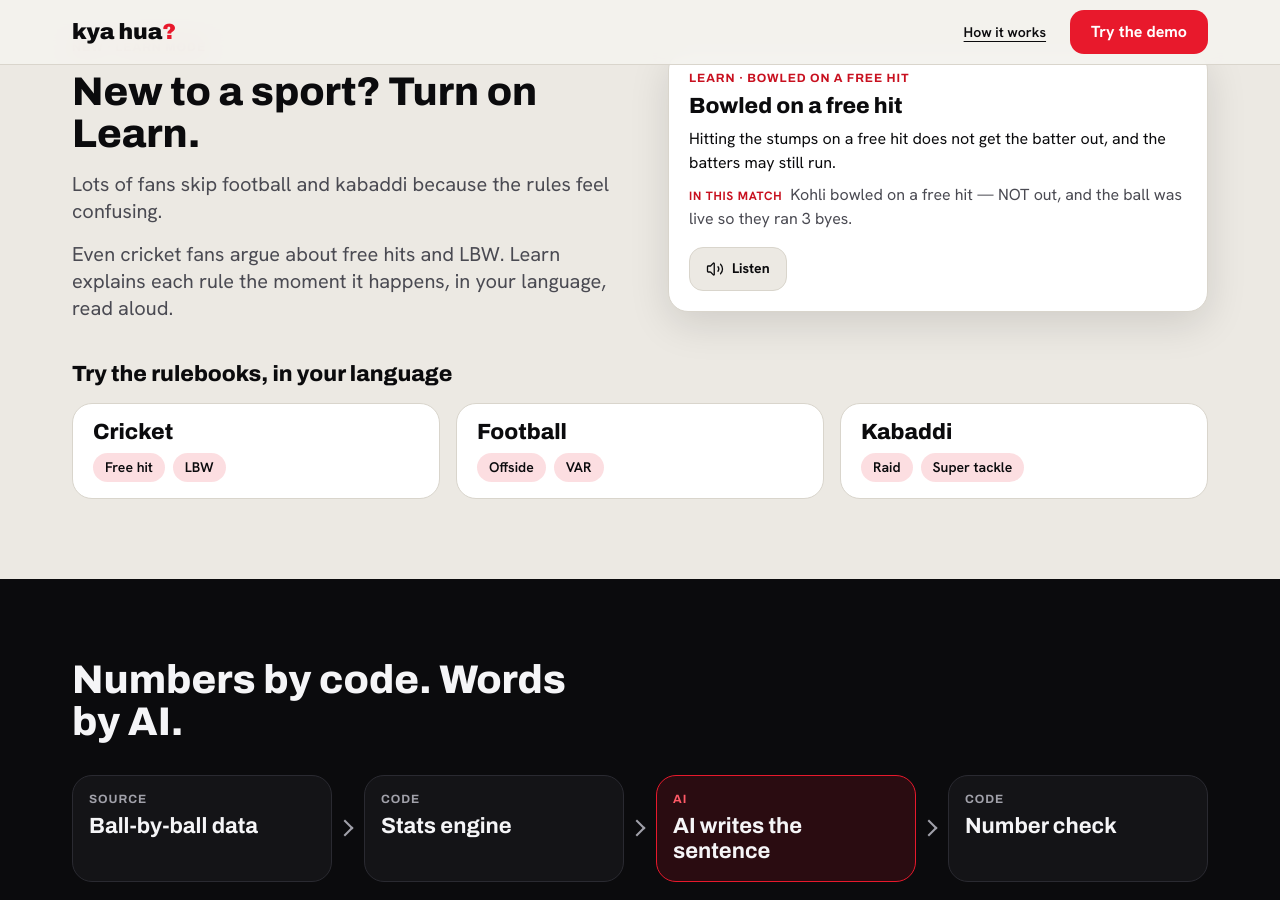
Test case: LandingPage › sport chips show two example rules each and open that sport glossary
(page scrolled)
expect the button with aria-label "Open the Football rules glossary" shows "Offside": met, box [456,403,824,499]
expect the button with aria-label "Open the Football rules glossary" shows "VAR": met, box [456,403,824,499]
What coordinates should you click on to do the following:
click the button with aria-label "Open the Kabaddi rules glossary"
I would click on:
 (1024, 451)
Its box is [840,403,1208,499].
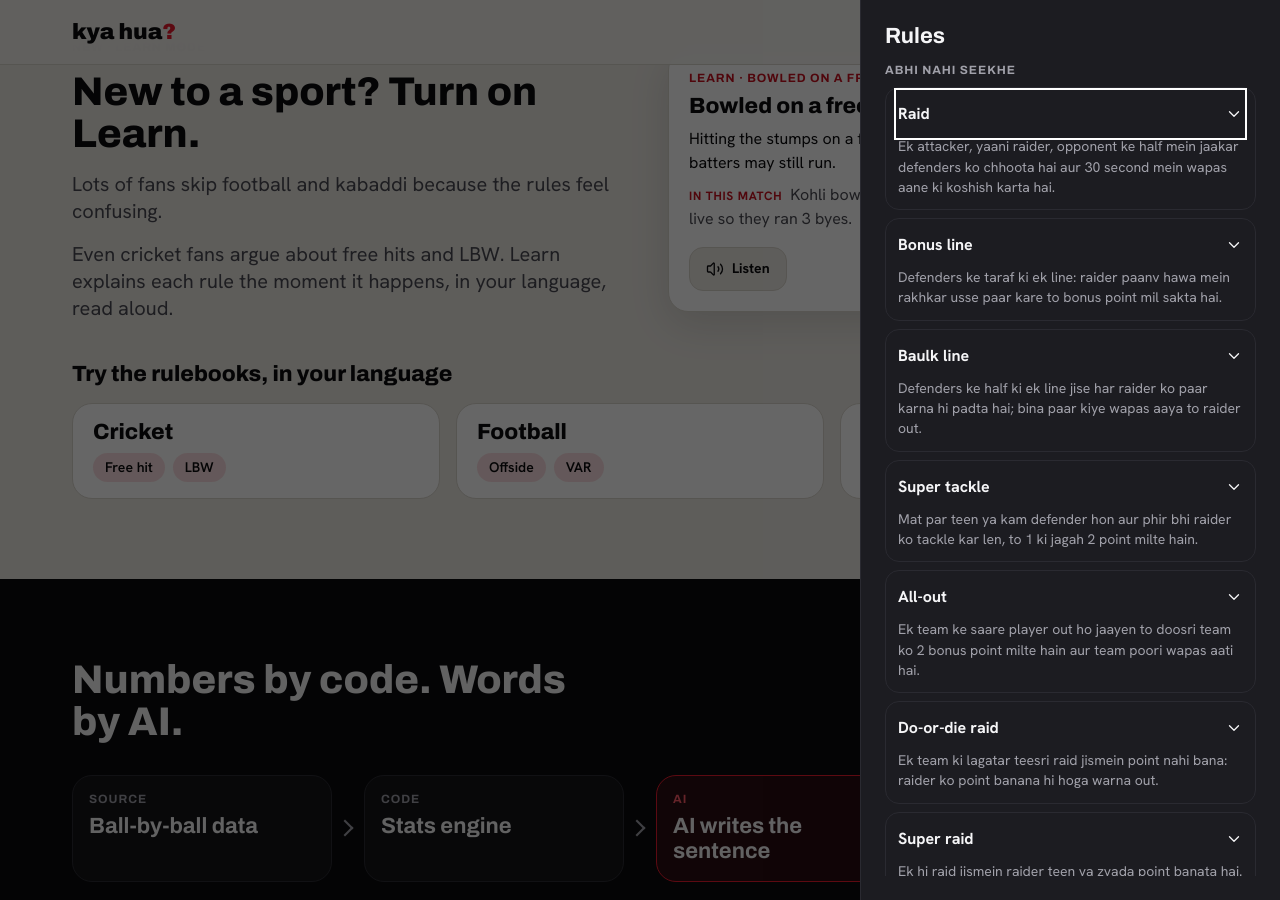
expect the dialog is shown: met, box [860,0,1279,899]
